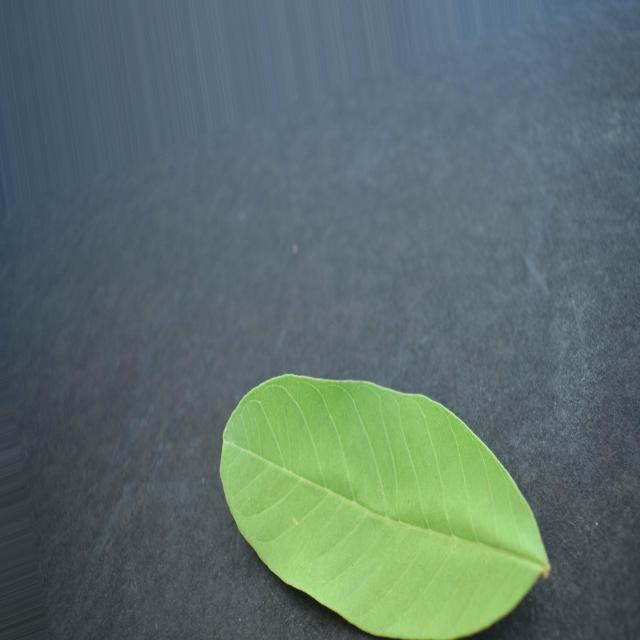Healthy: (220, 375, 550, 639)
